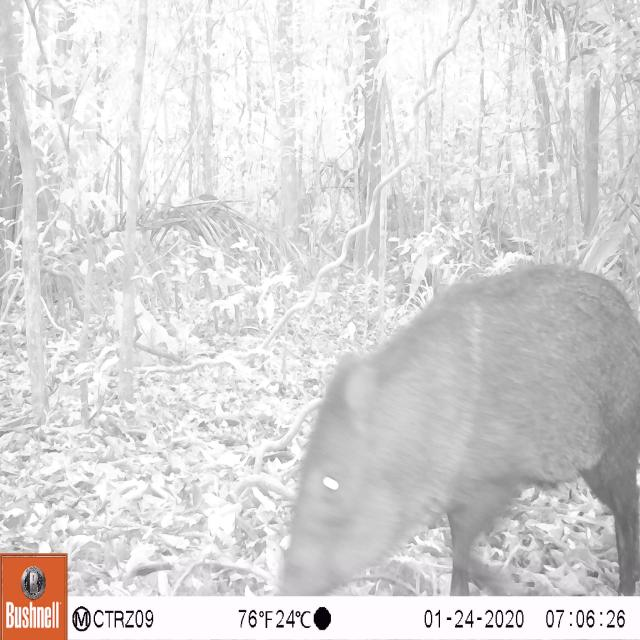Collared Peccary: (262, 264, 640, 596)
